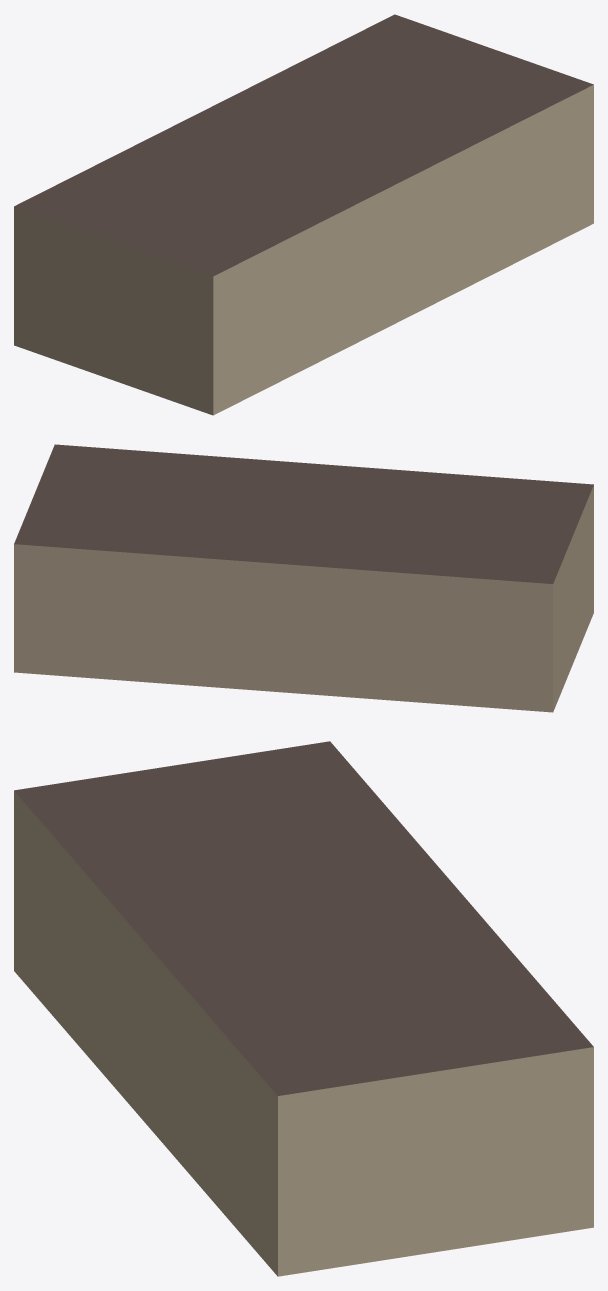
3 renders of one model, top to bottom at view 1: azimuth 30°, elevation 25°; view 2: azimuth 150°, elevation 25°; view 3: azimuth 270°, elevation 25°, orthographic. The views are drawn at different scales.
Visible parts, largest first — view 1: HP-w1367350940; view 2: HP-w1367350940; view 3: HP-w1367350940.
Part boxes in pixels (bbox=[...]): HP-w1367350940: bbox=[14, 14, 593, 415]; HP-w1367350940: bbox=[14, 444, 593, 712]; HP-w1367350940: bbox=[14, 741, 593, 1276].
Size of the model in its own units: 37.93 by 9 by 26.2.
